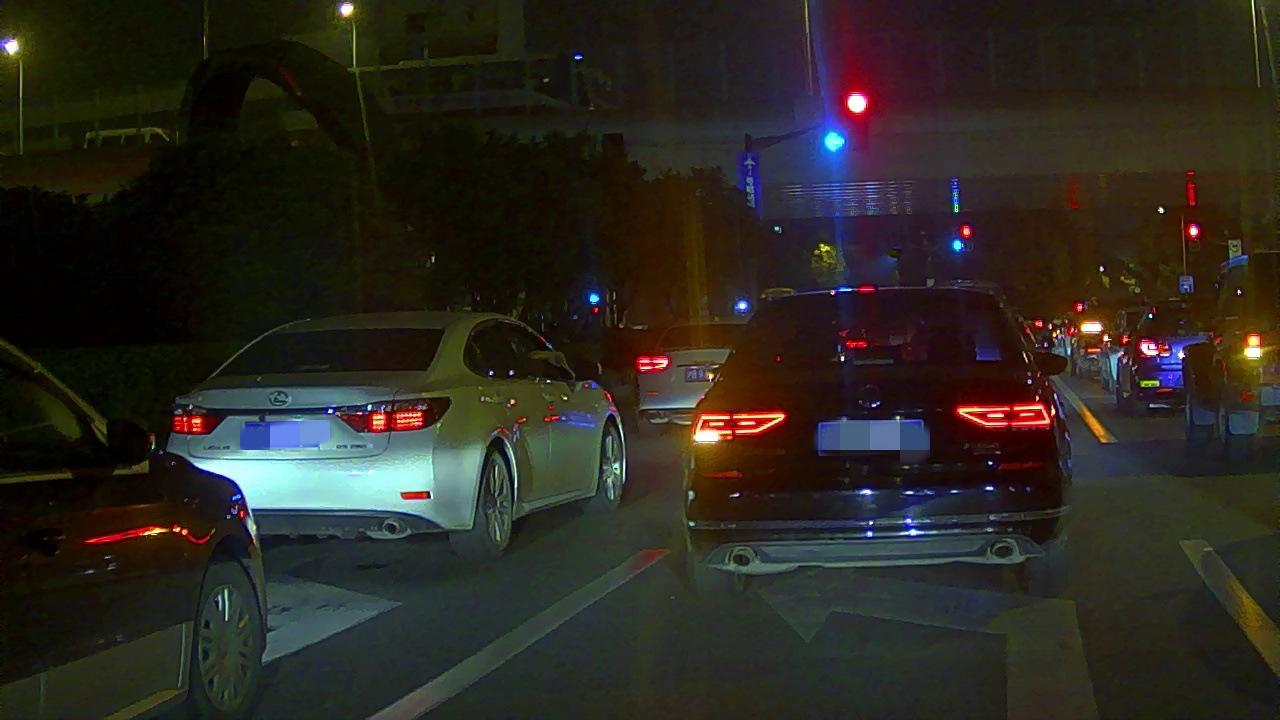traffic_light: (846, 87, 869, 150), (825, 131, 844, 151)
